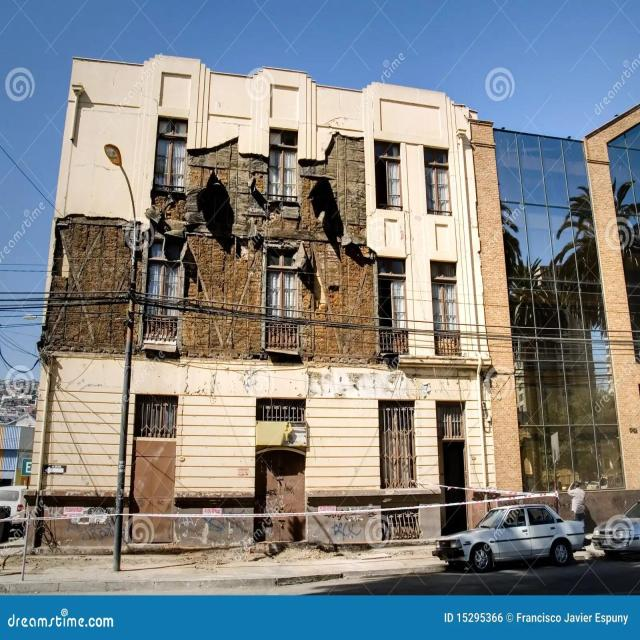damage: (51, 111, 427, 399)
